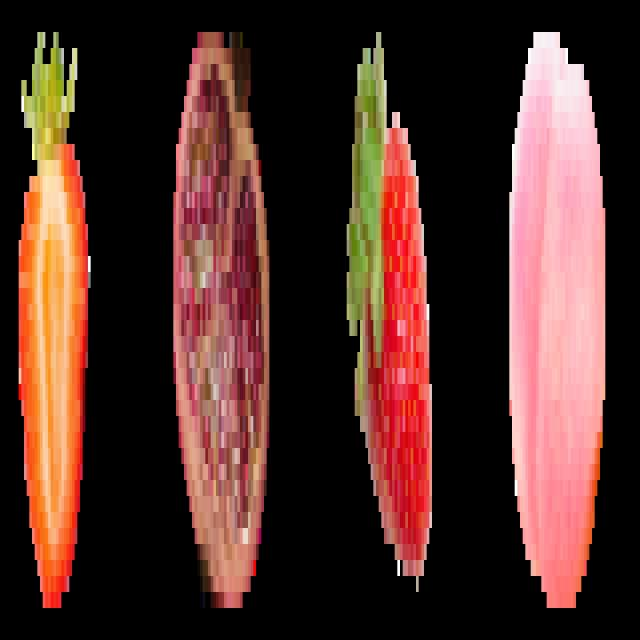peach: (505, 16, 610, 620)
pomegranate: (170, 6, 279, 627)
strawberry: (342, 13, 443, 598), (12, 10, 96, 624)
